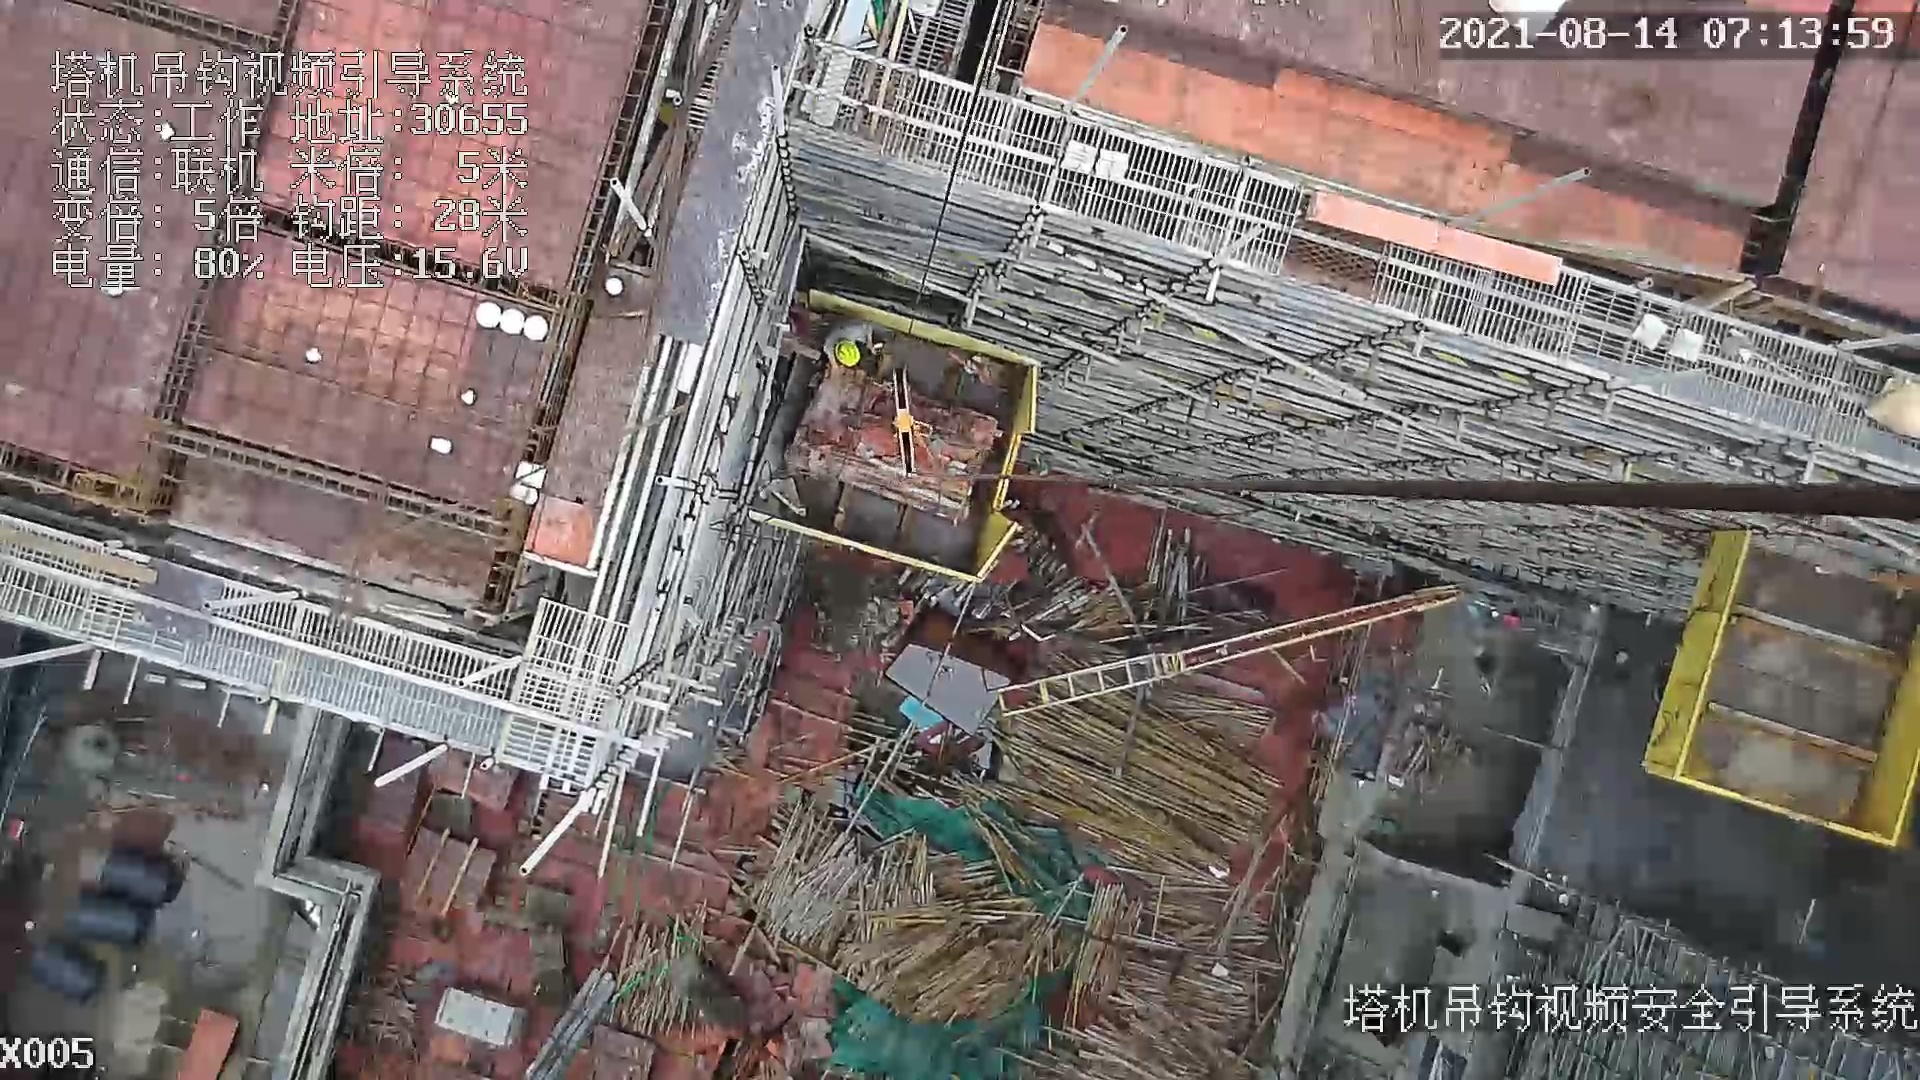helmet: (834, 335, 862, 369)
hook: (885, 360, 933, 481)
person: (814, 313, 878, 377)
